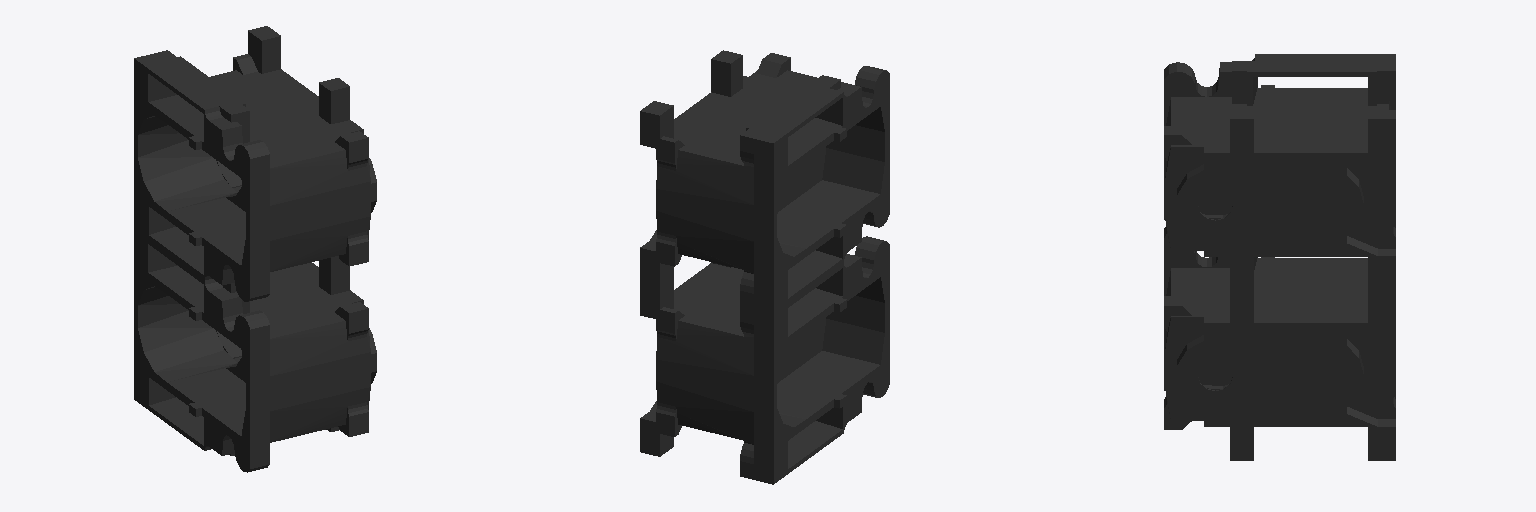
File: Knee_1__1__1_mesh_1.obj
3 renders of one model, left to right at view 1: azimuth 30°, elevation 25°; view 2: azimuth 150°, elevation 25°; view 3: azimuth 270°, elevation 25°, orthographic.
Bounding box in the file's own units: 0.0282 × 0.066 × 0.0408.